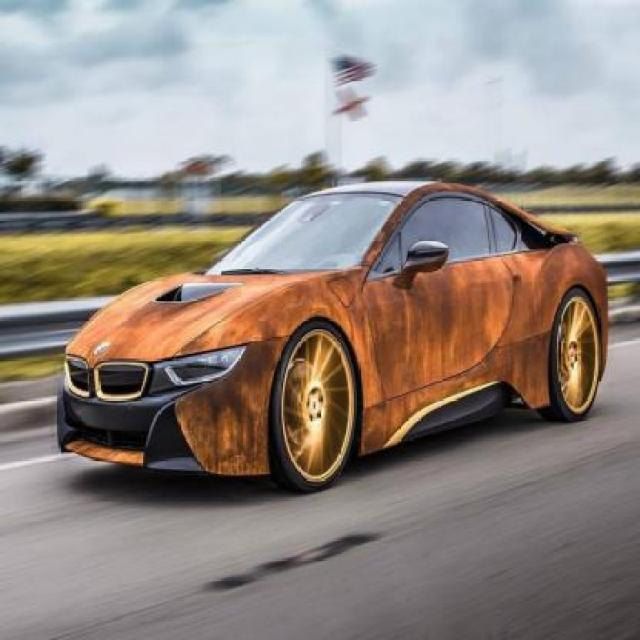corrosion: (54, 177, 612, 488)
